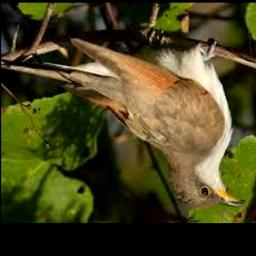Cuckoo: (67, 38, 245, 209)
